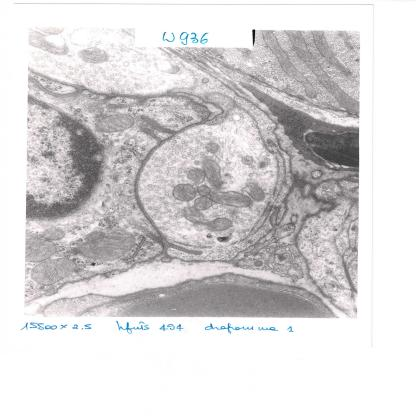mitochondria: (284, 30, 359, 115), (261, 31, 317, 99), (29, 257, 78, 287), (26, 230, 57, 262), (209, 191, 255, 208), (93, 114, 134, 133), (200, 159, 225, 187), (77, 48, 109, 64), (171, 184, 197, 202), (245, 182, 268, 202), (184, 166, 206, 184), (203, 217, 233, 230), (43, 227, 68, 240), (192, 196, 214, 210), (202, 141, 221, 154), (197, 184, 211, 196)
